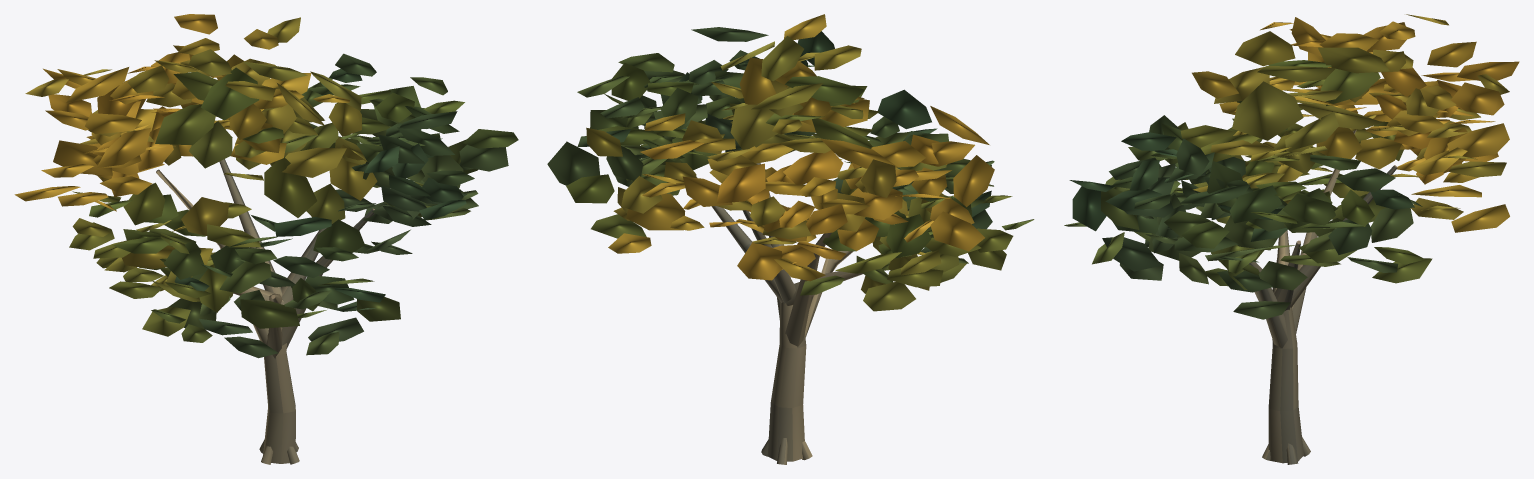
The model's file is HK_Tree_Round.lod.glb.
3 renders of one model, left to right at view 1: azimuth 30°, elevation 25°; view 2: azimuth 150°, elevation 25°; view 3: azimuth 270°, elevation 25°, orthographic. The views are drawn at different scales.
Parts seen in each view (by area): view 1: HK_Tree_Round; view 2: HK_Tree_Round; view 3: HK_Tree_Round.
Part boxes in pixels (x1=…): HK_Tree_Round: x1=14, y1=14, x2=518, y2=464; HK_Tree_Round: x1=547, y1=14, x2=1034, y2=464; HK_Tree_Round: x1=1064, y1=14, x2=1519, y2=464.
Bounding box in the file's own units: 7.96 × 7.14 × 7.45.
